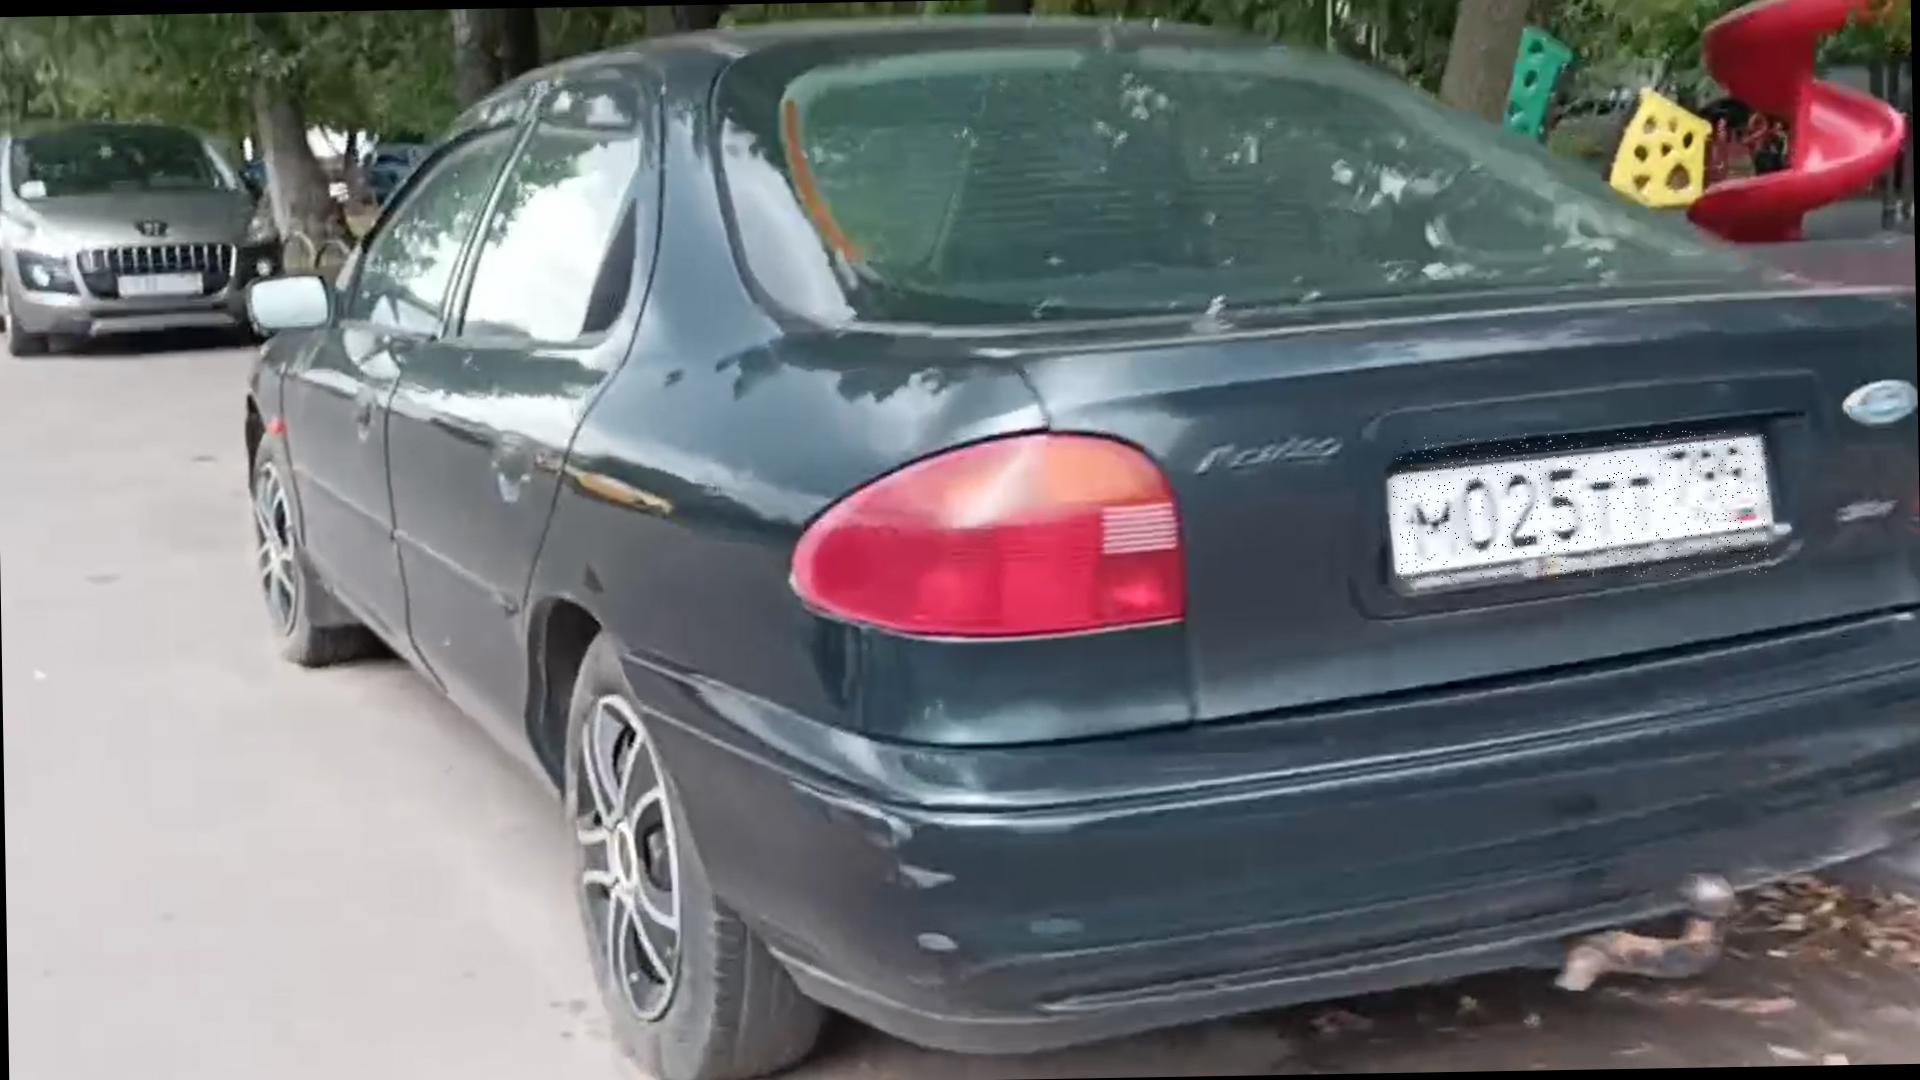plate: (1394, 431, 1773, 583)
